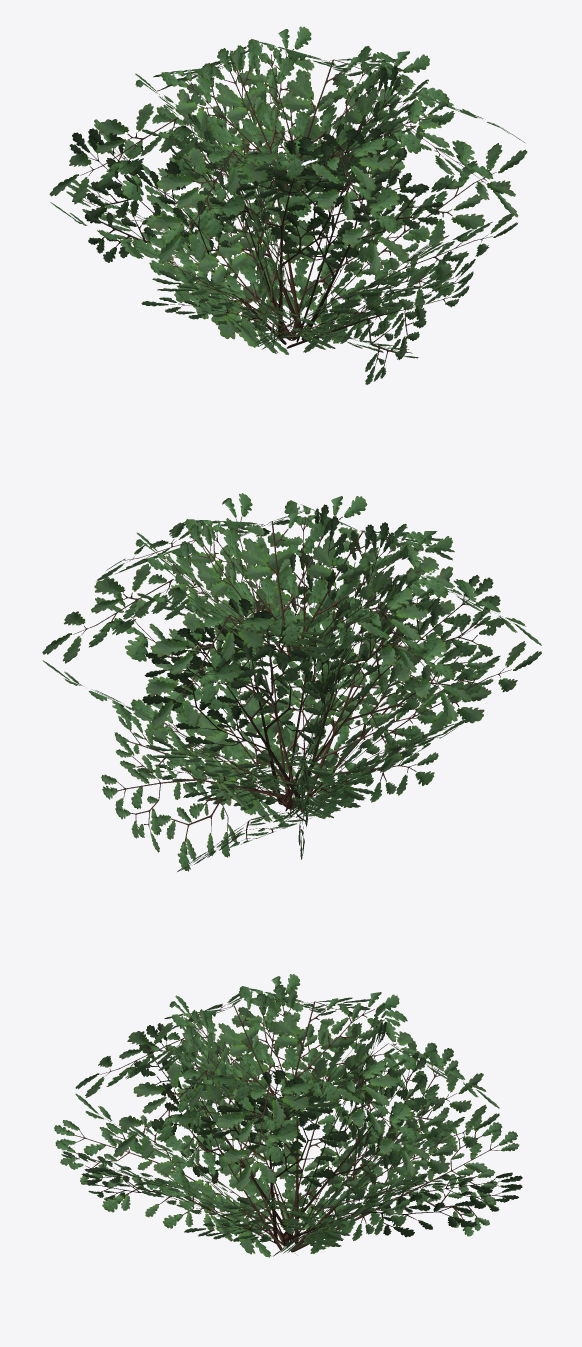
Rendered from Bush_04.obj.
3 views of the same model, one above another, from view 1: azimuth 30°, elevation 25°; view 2: azimuth 150°, elevation 25°; view 3: azimuth 270°, elevation 25° (orthographic). The views are drawn at different scales.
Parts seen in each view (by area): view 1: Plane.328_Plane.368, Plane.357_Plane.386, Plane.356_Plane.385, Plane.354_Plane.383, Plane.346_Plane.375, Plane.345_Plane.374, Plane.352_Plane.381, Plane.342_Plane.371, Plane.347_Plane.376, Plane.361_Plane.390, Plane.362_Plane.391, Plane.351_Plane.380 (+15 smaller); view 2: Plane.354_Plane.383, Plane.352_Plane.381, Plane.355_Plane.384, Plane.340_Plane.369, Plane.344_Plane.373, Plane.360_Plane.389, Plane.364_Plane.393, Plane.365_Plane.394, Plane.356_Plane.385, Plane.328_Plane.368, Plane.351_Plane.380, Plane.343_Plane.372 (+15 smaller); view 3: Plane.353_Plane.382, Plane.351_Plane.380, Plane.345_Plane.374, Plane.342_Plane.371, Plane.341_Plane.370, Plane.355_Plane.384, Plane.354_Plane.383, Plane.350_Plane.379, Plane.363_Plane.392, Plane.356_Plane.385, Plane.340_Plane.369, Plane.344_Plane.373 (+15 smaller).
Part boxes in pixels (bbox=[...]): Plane.328_Plane.368: bbox=[290, 143, 527, 343]; Plane.357_Plane.386: bbox=[237, 39, 429, 189]; Plane.356_Plane.385: bbox=[142, 129, 330, 263]; Plane.354_Plane.383: bbox=[153, 26, 315, 187]; Plane.346_Plane.375: bbox=[238, 86, 429, 338]; Plane.345_Plane.374: bbox=[87, 119, 290, 347]; Plane.352_Plane.381: bbox=[255, 126, 422, 273]; Plane.342_Plane.371: bbox=[153, 89, 315, 338]; Plane.347_Plane.376: bbox=[206, 137, 377, 338]; Plane.361_Plane.390: bbox=[271, 128, 443, 340]; Plane.362_Plane.391: bbox=[69, 128, 286, 344]; Plane.351_Plane.380: bbox=[289, 46, 524, 190]; Plane.354_Plane.383: bbox=[137, 593, 334, 730]; Plane.352_Plane.381: bbox=[256, 500, 454, 656]; Plane.355_Plane.384: bbox=[185, 496, 367, 655]; Plane.340_Plane.369: bbox=[258, 566, 454, 805]; Plane.344_Plane.373: bbox=[304, 641, 541, 817]; Plane.360_Plane.389: bbox=[284, 575, 504, 802]; Plane.364_Plane.393: bbox=[101, 715, 286, 871]; Plane.365_Plane.394: bbox=[142, 627, 312, 798]; Plane.356_Plane.385: bbox=[294, 523, 541, 662]; Plane.328_Plane.368: bbox=[95, 577, 296, 815]; Plane.351_Plane.380: bbox=[96, 493, 296, 654]; Plane.343_Plane.372: bbox=[185, 544, 366, 804]; Plane.353_Plane.382: bbox=[231, 986, 399, 1118]; Plane.351_Plane.380: bbox=[184, 1079, 349, 1191]; Plane.345_Plane.374: bbox=[280, 1068, 483, 1247]; Plane.342_Plane.371: bbox=[293, 1104, 499, 1253]; Plane.341_Plane.370: bbox=[237, 1023, 399, 1243]; Plane.355_Plane.384: bbox=[113, 1041, 300, 1159]; Plane.354_Plane.383: bbox=[288, 1003, 499, 1121]; Plane.350_Plane.379: bbox=[199, 1070, 348, 1243]; Plane.363_Plane.392: bbox=[291, 1117, 519, 1252]; Plane.356_Plane.385: bbox=[164, 974, 306, 1107]; Plane.340_Plane.369: bbox=[75, 1093, 283, 1257]; Plane.344_Plane.373: bbox=[164, 1031, 305, 1243].
Size of the model in its own units: 1.56 by 1.2 by 1.89.
1 material, 1 textured.
